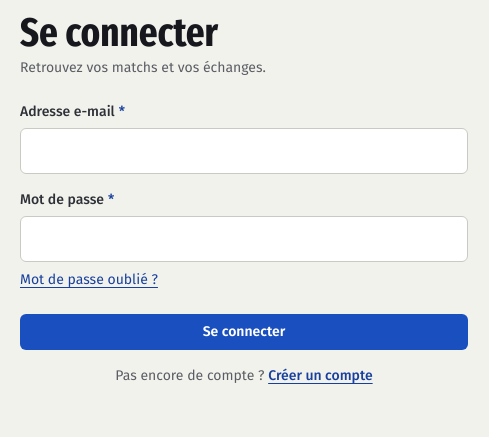
Test: page de connexion › affiche un message unique sur des identifiants refusés
Type "ada@example.org" into the field labelled "Adresse e-mail*" at [244, 151], box [20, 128, 468, 174]
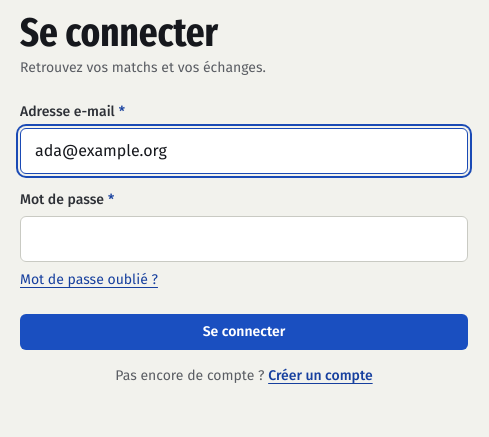
Type "mauvais-mot-de-passe" into the password field labelled "Mot de passe*" at [244, 239], box [20, 216, 468, 262]
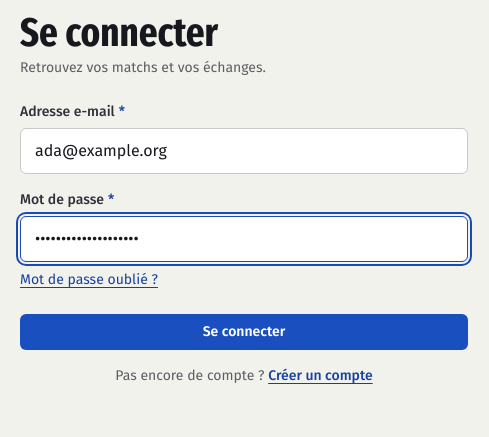
Click the button "Se connecter" at [244, 332], box [20, 314, 468, 350]
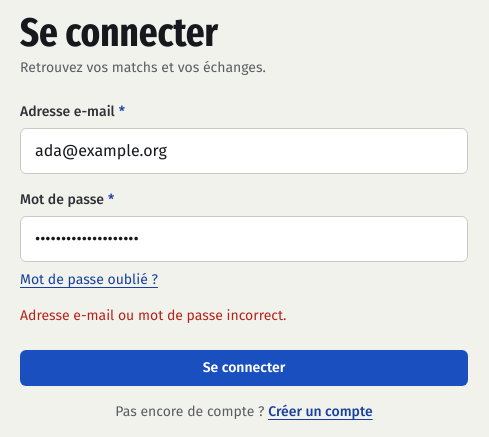
Result: the message reads "Adresse e-mail ou mot de passe incorrect." at [20, 307, 286, 324]
